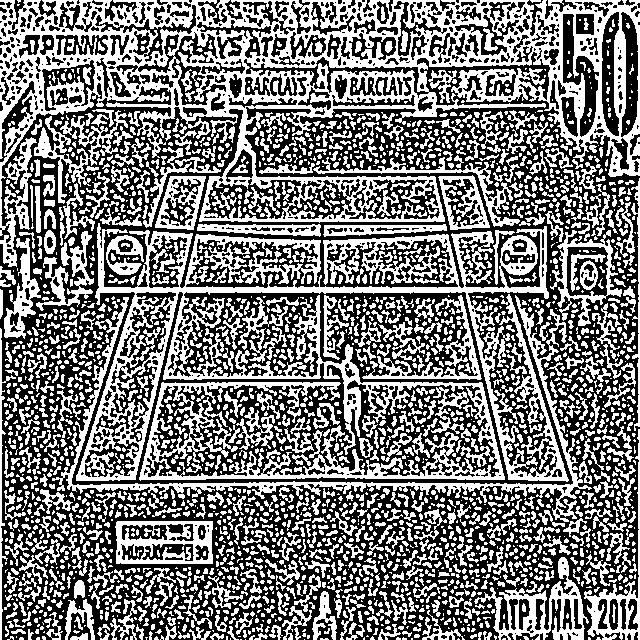left side: (436, 175, 571, 483), (73, 175, 208, 482)
player: (312, 343, 385, 472), (220, 98, 264, 184)
